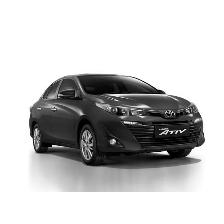NON-EV: (30, 74, 208, 167)
